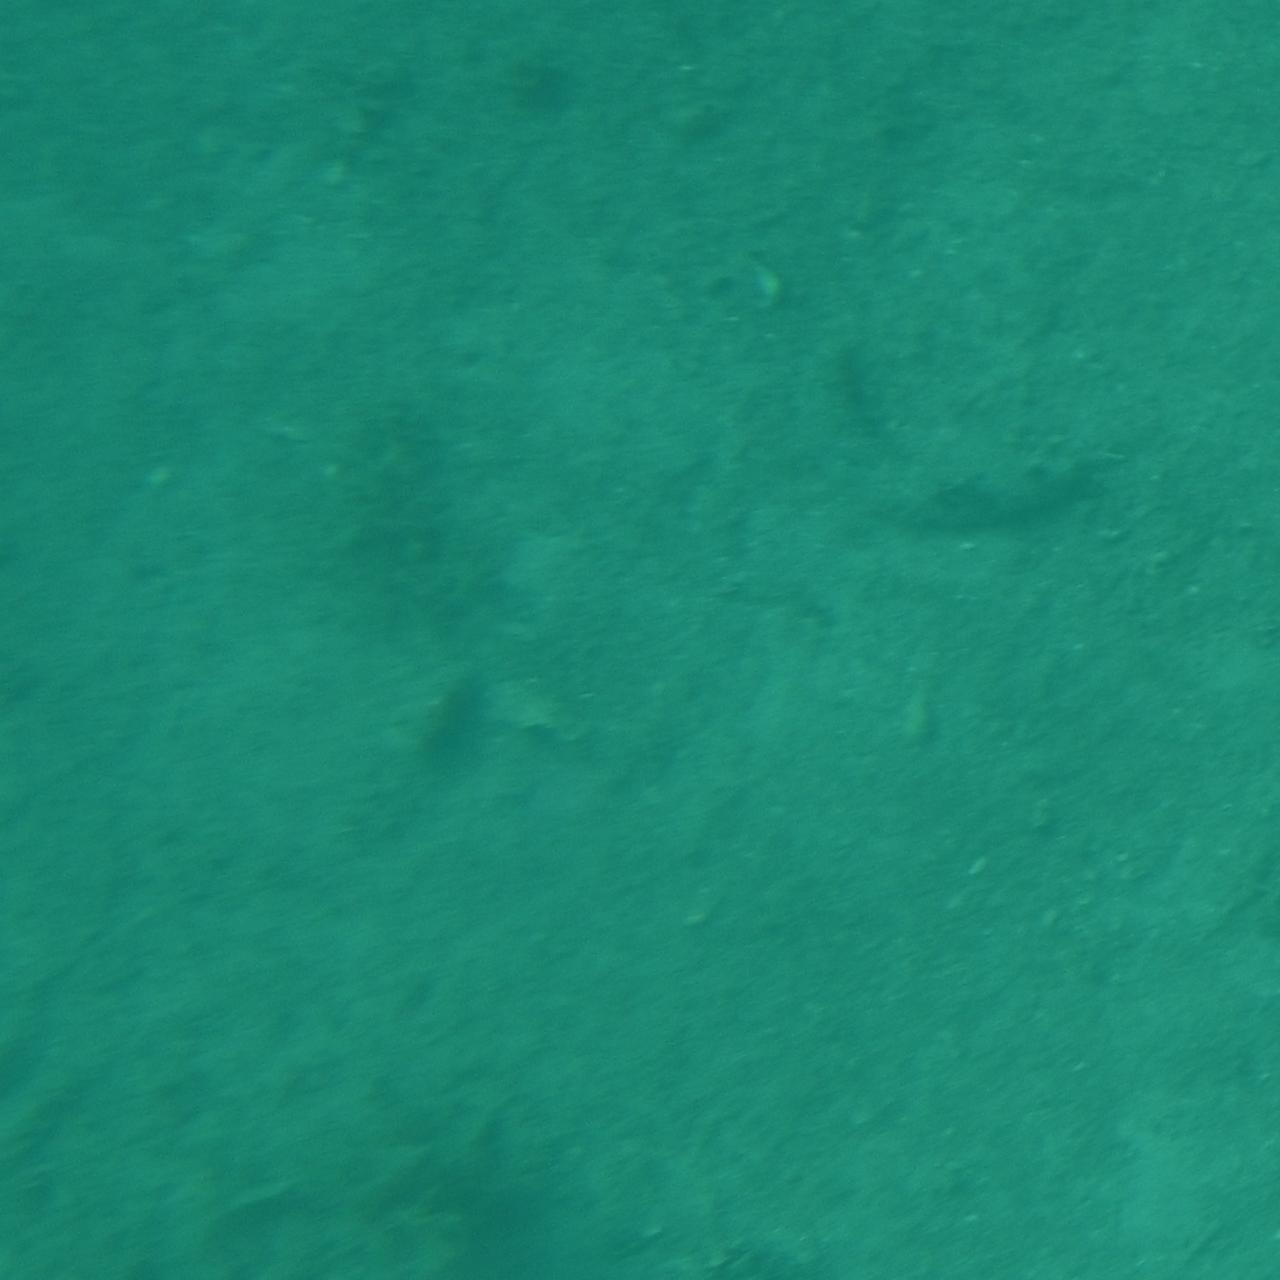Holothuria tubulosa: (794, 329, 1101, 549), (700, 1182, 1007, 1280), (200, 1200, 465, 1280), (461, 0, 631, 121)
